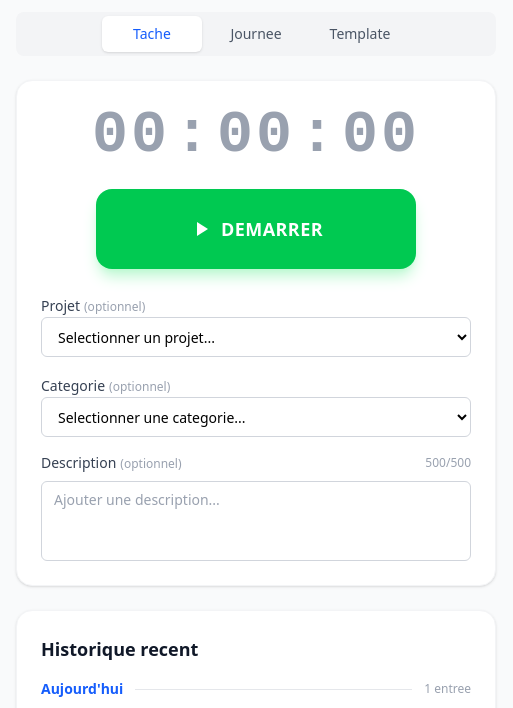
Test: TimeTrackingPage › Mode Switching › can switch to Template mode
// Click on Template mode
Click the tab "Template". click: (360, 34)
box: [310,16,410,52]
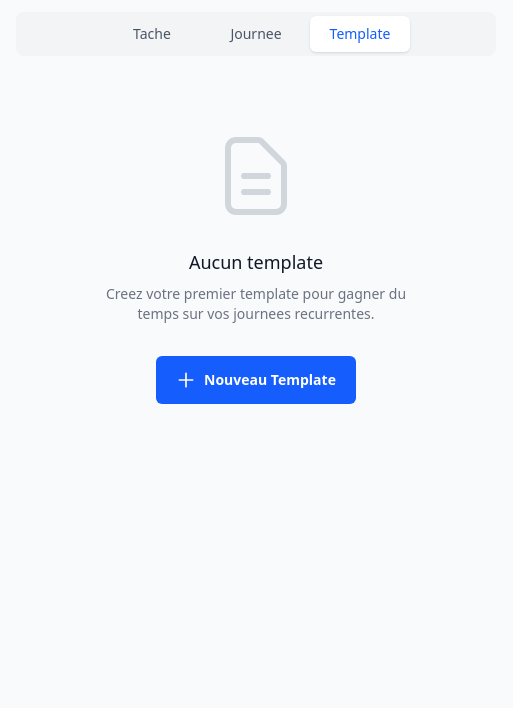
expect the button "DEMARRER" is gone: met
